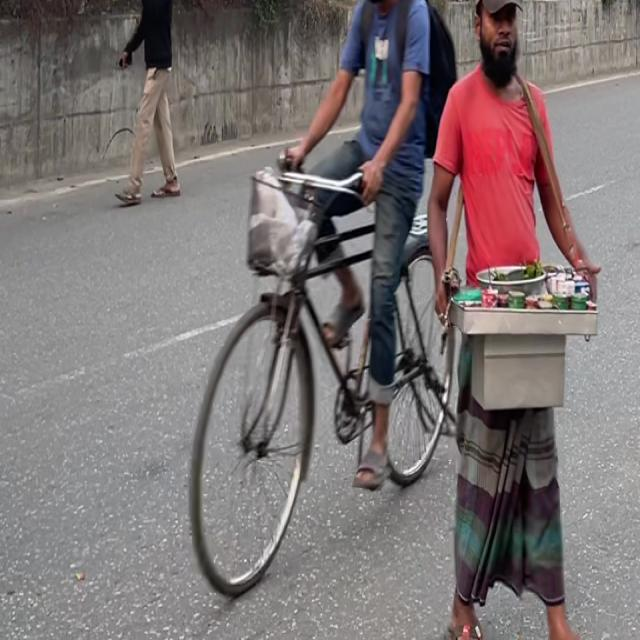bicycle: (161, 0, 443, 600)
